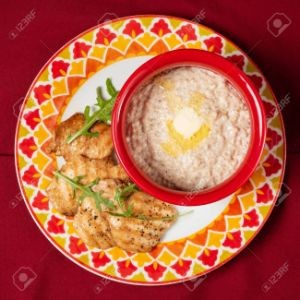oat_brain food: (129, 83, 245, 183)
